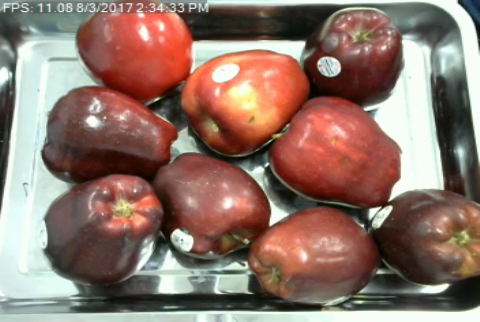Apple: (267, 91, 403, 208), (177, 47, 314, 159), (37, 171, 168, 287), (245, 202, 384, 308), (149, 147, 272, 263), (40, 84, 179, 186), (73, 0, 195, 102), (367, 184, 480, 288), (298, 5, 404, 108)
